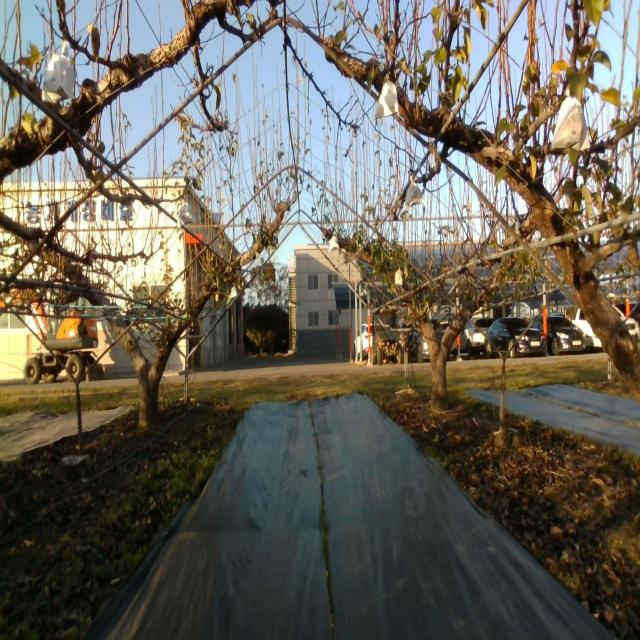pearbags: (550, 94, 591, 152), (42, 41, 76, 103), (374, 80, 399, 122), (405, 175, 424, 211), (177, 202, 196, 228), (328, 236, 340, 254)
